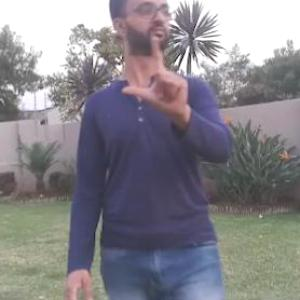land_hand: (118, 29, 198, 116)
